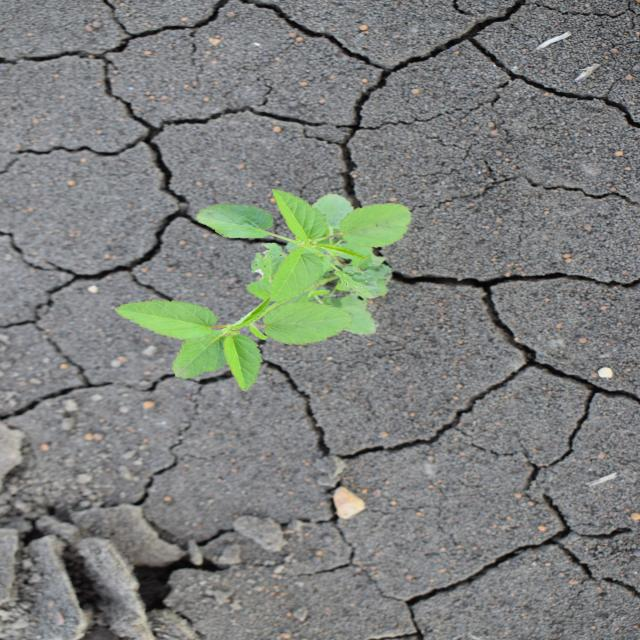PricklySida: (113, 186, 415, 394)
